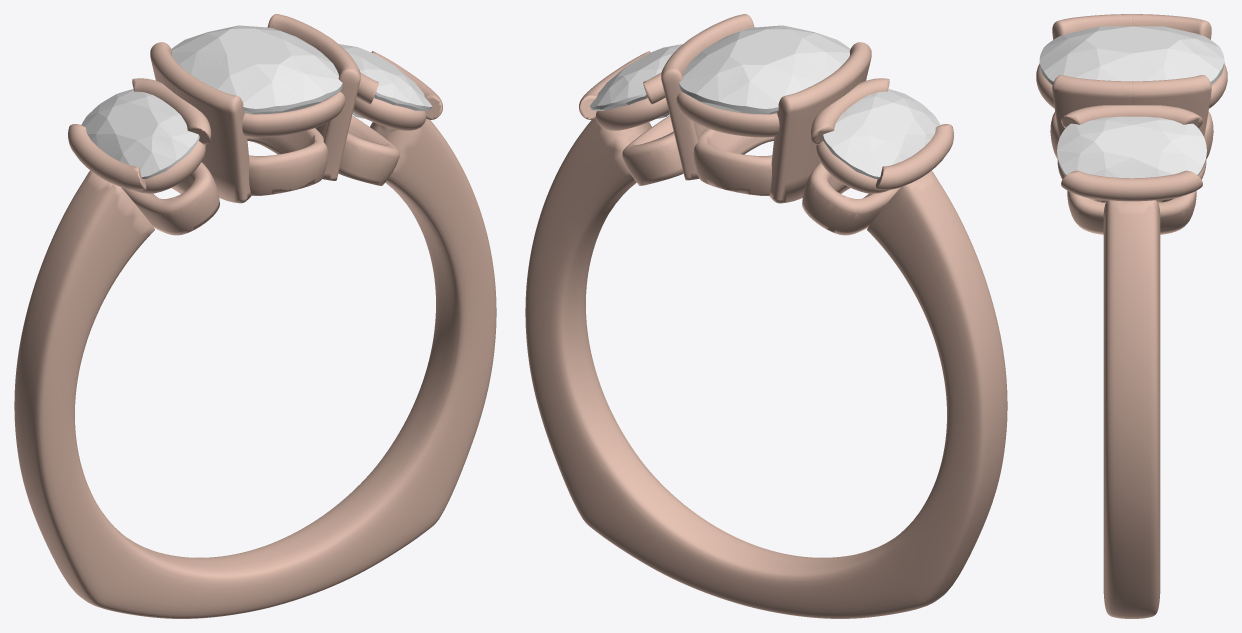
File: diamond-cushion-rosegold-halfmoonbezel-europeanshank-3stone.glb
3 renders of one model, left to right at view 1: azimuth 30°, elevation 25°; view 2: azimuth 150°, elevation 25°; view 3: azimuth 270°, elevation 25°, orthographic. The views are drawn at different scales.
Visible parts, largest first — view 1: metal.002, stone, side.001, side; view 2: metal.002, stone, side.001, side; view 3: metal.002, stone, side.
Boxes of the visible parts, <box> form: metal.002: <box>14,14,496,618</box>; stone: <box>171,25,342,114</box>; side.001: <box>81,89,199,178</box>; side: <box>339,44,431,118</box>; metal.002: <box>525,14,1007,618</box>; stone: <box>679,25,850,114</box>; side.001: <box>822,89,940,178</box>; side: <box>590,44,682,118</box>; metal.002: <box>1036,14,1227,618</box>; stone: <box>1039,26,1224,84</box>; side: <box>1057,116,1206,178</box>.
Bounding box in the file's own units: 20.11 × 23.04 × 7.42.
